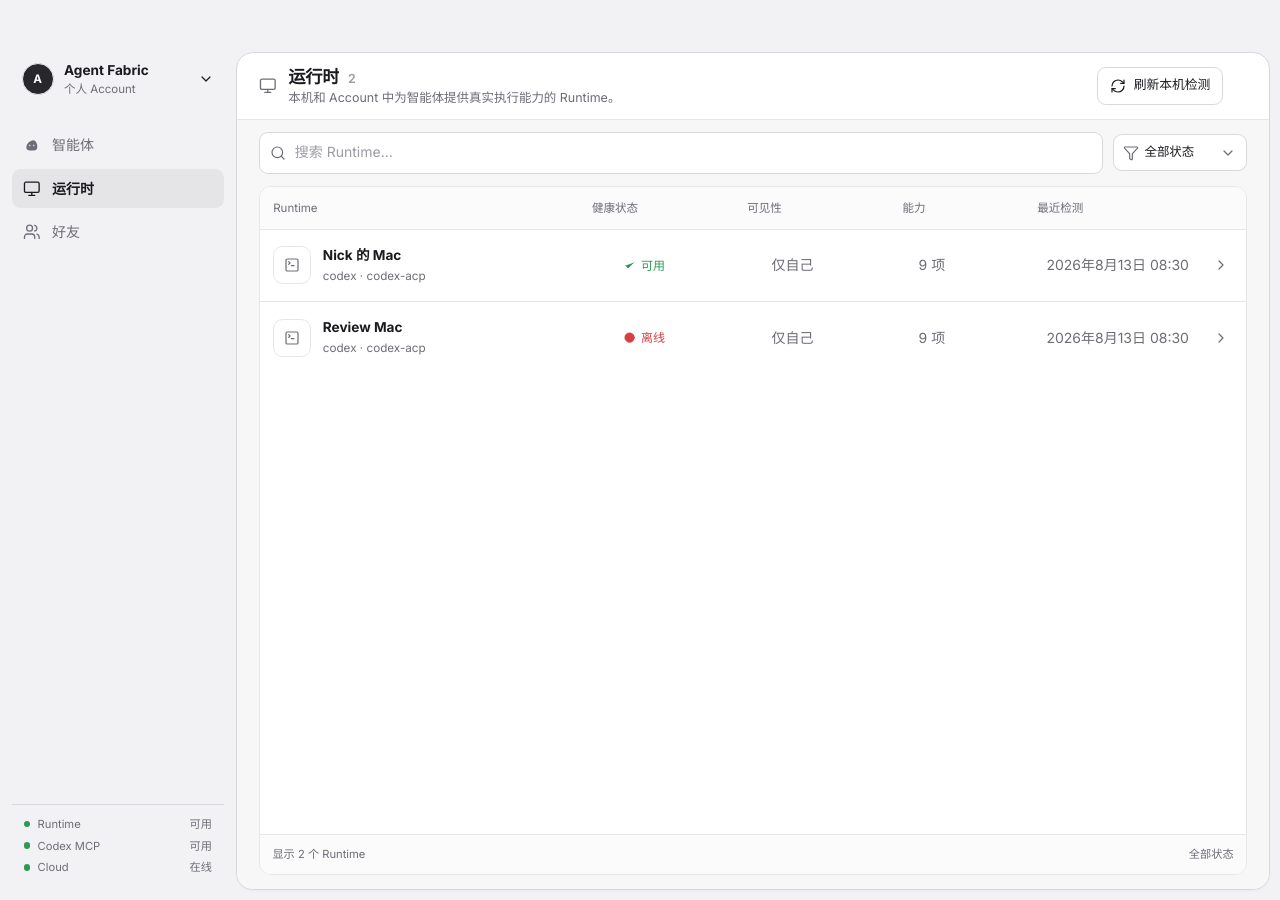
Account-scoped product Renderer › supports Runtime no-match recovery and direct friend removal
Type "missing" into the field labelled "搜索 Runtime" at (689, 152), box [286,132,1091,172]
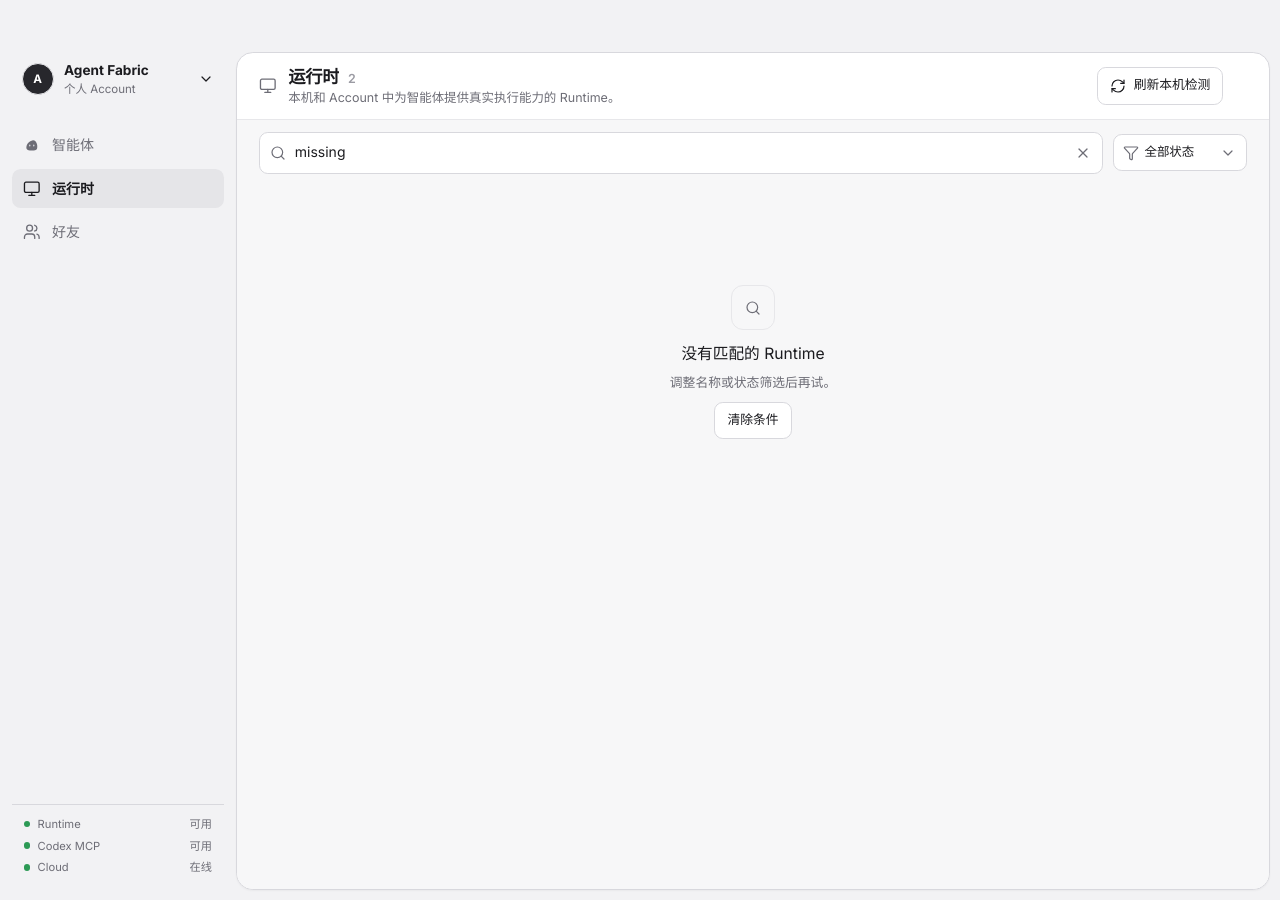
Expected: the heading "没有匹配的 Runtime" is shown, [681,343,825,366]
Click the button "清除条件" at (753, 421), box [714,402,792,439]
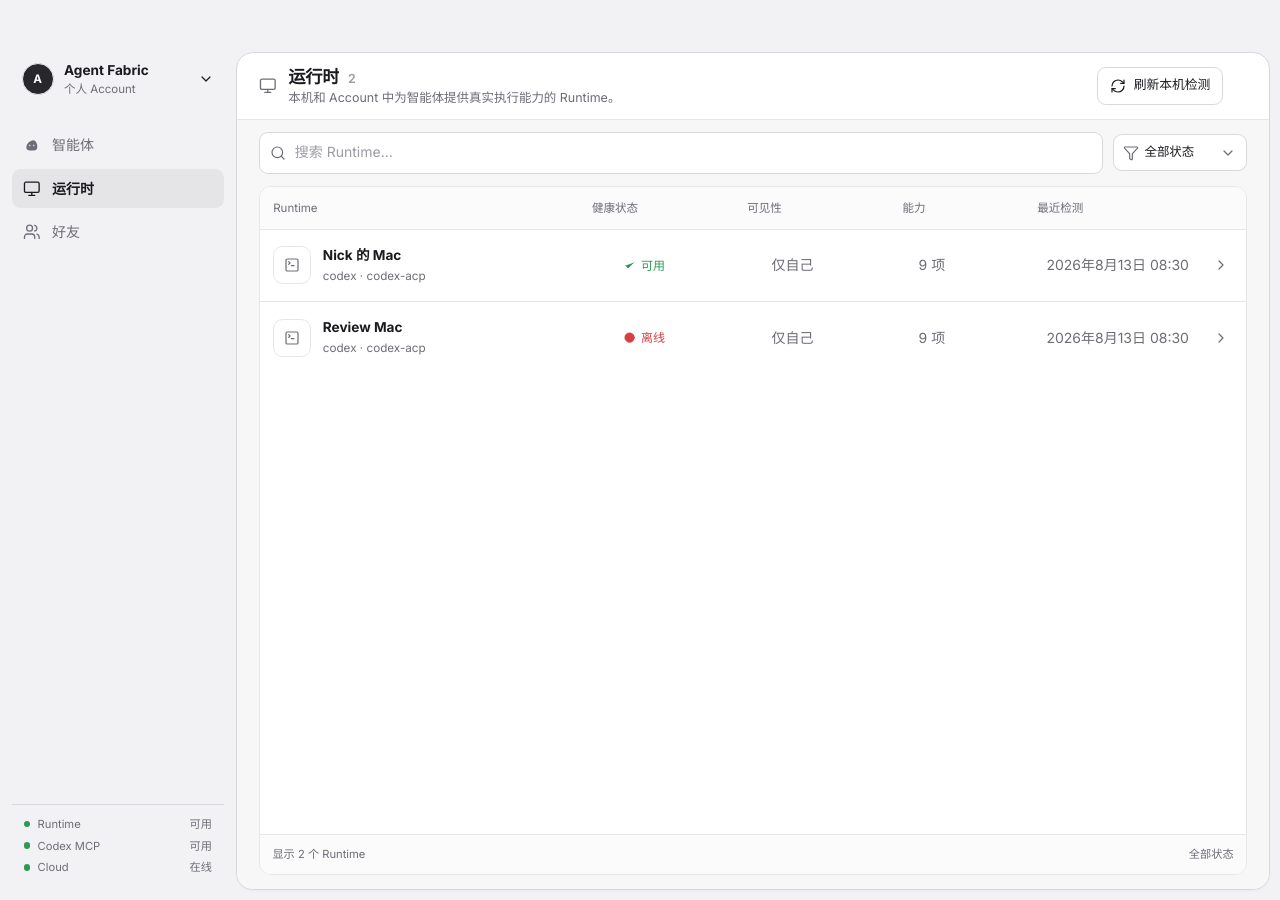
Click the button "好友" at (118, 232), box [12,212,224,252]
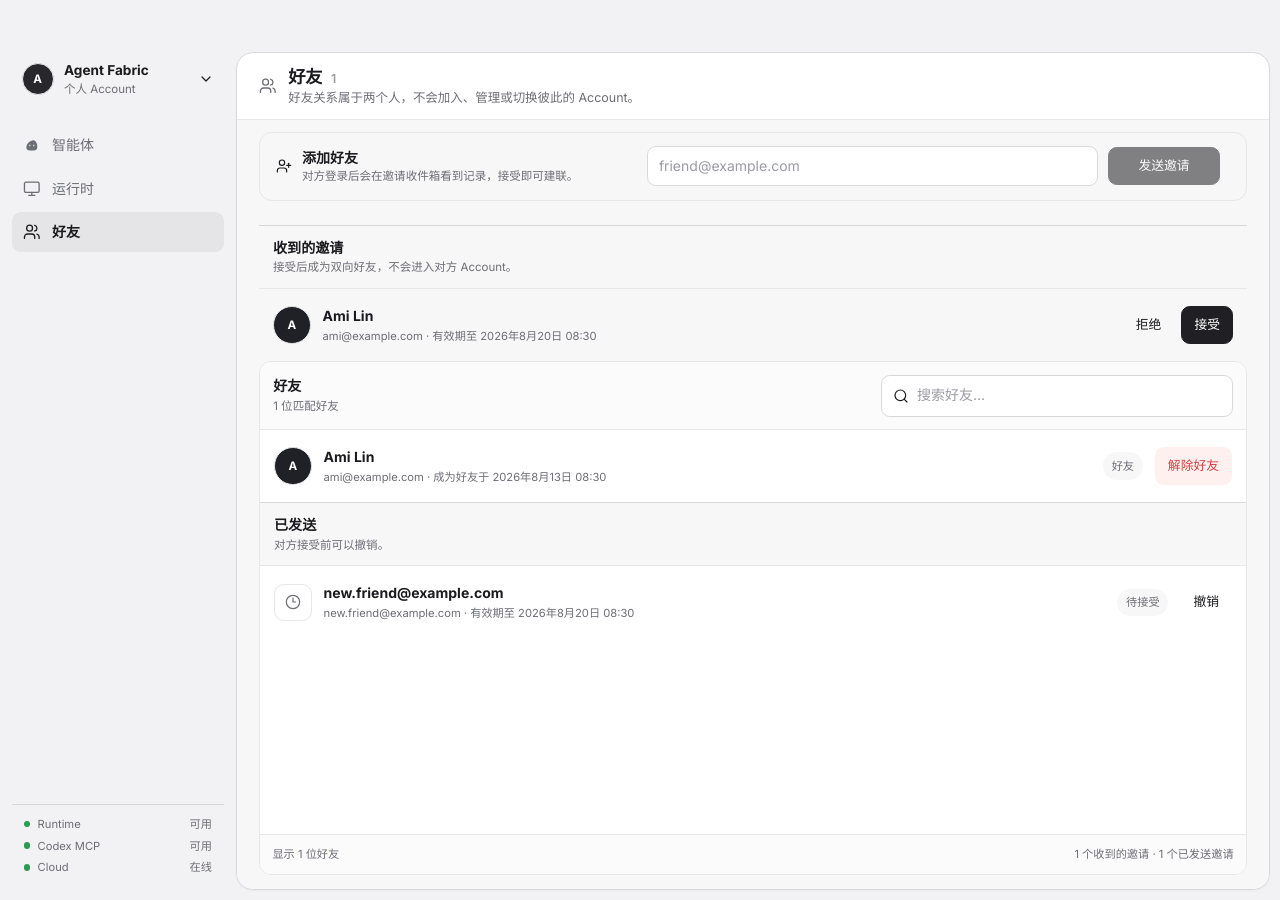
Expected: the button "解除好友" is shown, [1155,447,1232,485]
